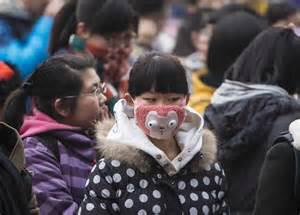NONE: (69, 84, 109, 125)
OK: (134, 88, 184, 135)
WRONG: (89, 27, 133, 67)
